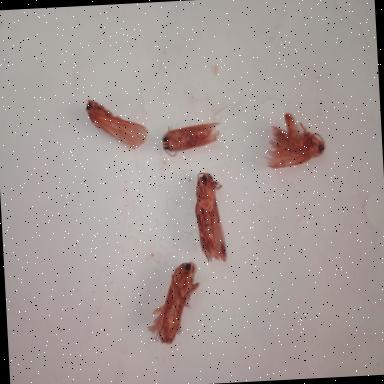abw: (154, 251, 205, 349), (83, 92, 150, 162), (262, 104, 330, 170), (157, 112, 223, 160), (192, 170, 226, 260)
